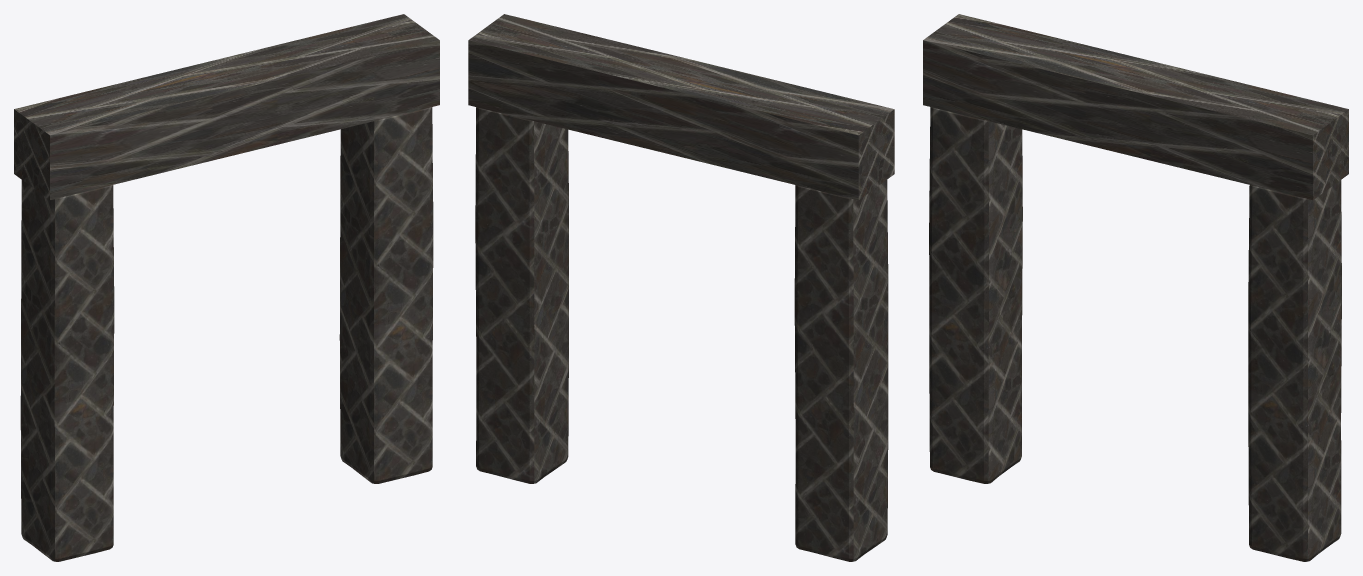
File: arch.glb
3 views of the same model, side by side, from view 1: azimuth 30°, elevation 25°; view 2: azimuth 150°, elevation 25°; view 3: azimuth 330°, elevation 25° (orthographic).
Parts seen in each view (by area): view 1: arch; view 2: arch; view 3: arch.
Part boxes in pixels (bbox=[...]): arch: bbox=[14, 14, 439, 561]; arch: bbox=[468, 14, 894, 561]; arch: bbox=[923, 14, 1348, 561].
Bounding box in the file's own units: 2.2 × 2.32 × 0.3546.
1 material, 1 textured.
